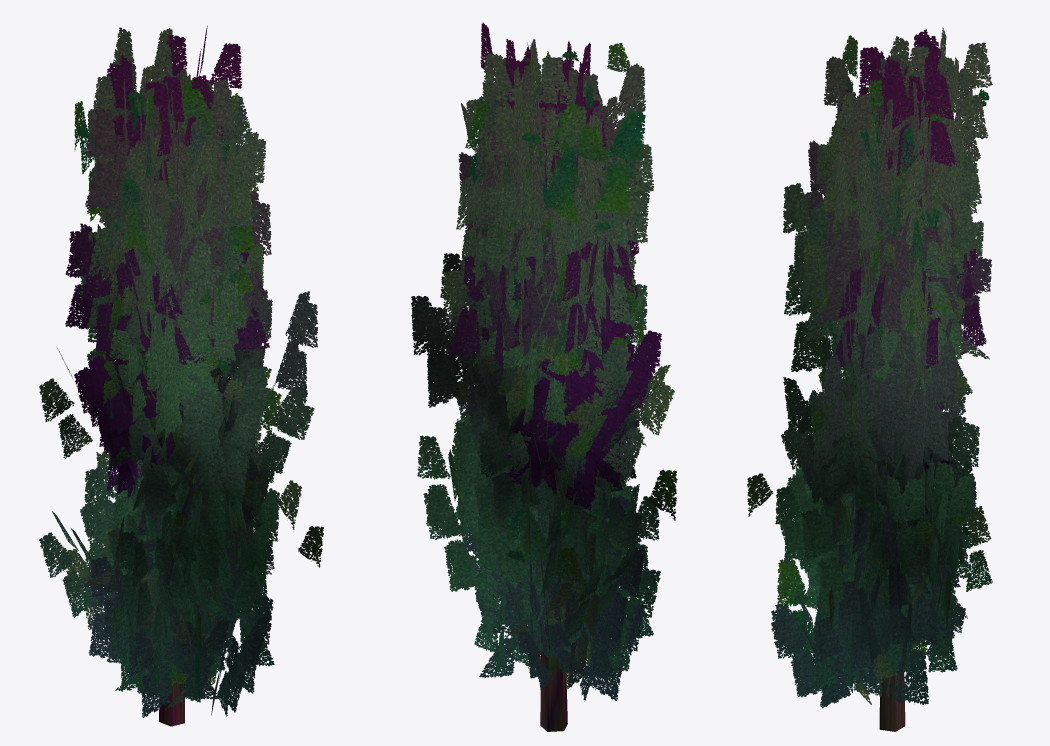
The model's file is nat_cypress_c_LOD1.glb.
3 renders of one model, left to right at view 1: azimuth 30°, elevation 25°; view 2: azimuth 150°, elevation 25°; view 3: azimuth 270°, elevation 25°, orthographic. The views are drawn at different scales.
Parts seen in each view (by area): view 1: nat_cypress_c_LOD1; view 2: nat_cypress_c_LOD1; view 3: nat_cypress_c_LOD1.
Part boxes in pixels (bbox=[...]): nat_cypress_c_LOD1: bbox=[39, 25, 323, 726]; nat_cypress_c_LOD1: bbox=[411, 22, 677, 731]; nat_cypress_c_LOD1: bbox=[747, 28, 992, 731].
Bounding box in the file's own units: 5.31 × 11.75 × 4.77.
Materials: 2 (2 with a texture image).
